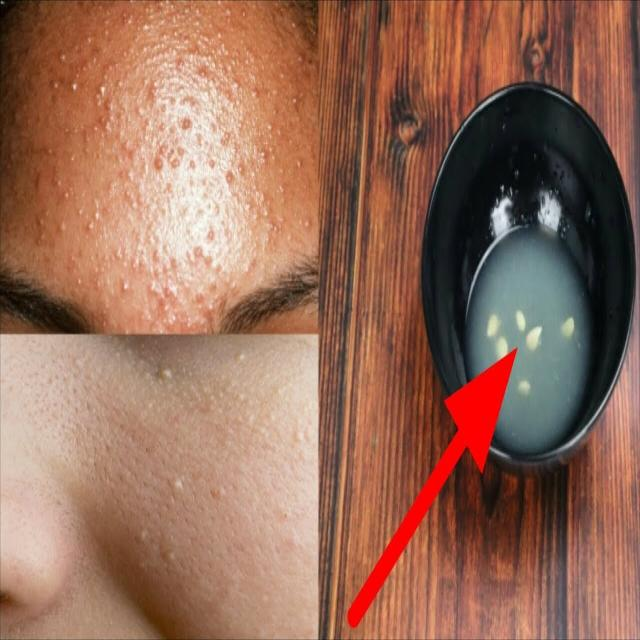Acne: (2, 4, 316, 333), (119, 344, 314, 618)
